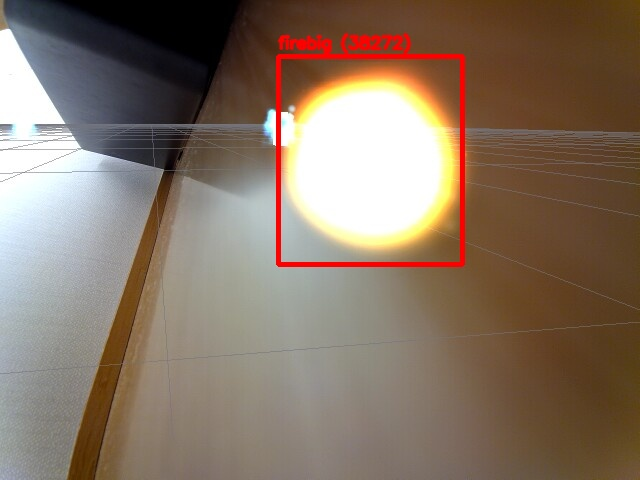firebig: (278, 56, 462, 264)
